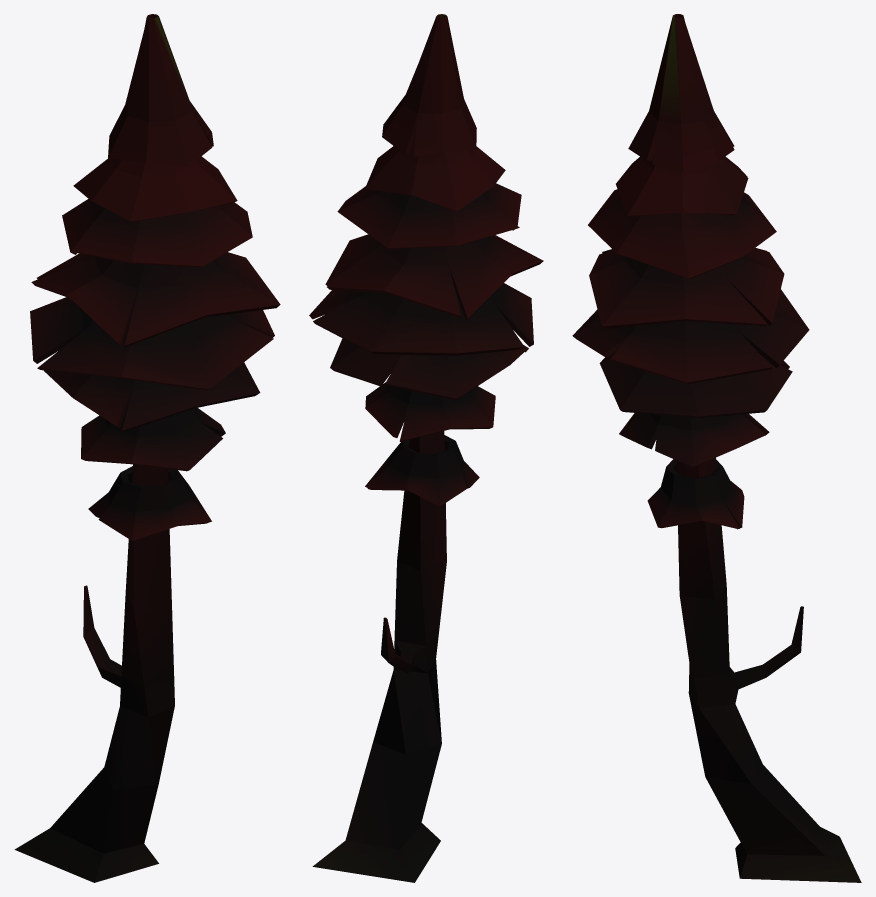
File: TallTrees11.fbx
3 views of the same model, side by side, from view 1: azimuth 30°, elevation 25°; view 2: azimuth 150°, elevation 25°; view 3: azimuth 270°, elevation 25° (orthographic). The views are drawn at different scales.
Parts seen in each view (by area): view 1: Circle; view 2: Circle; view 3: Circle.
Part boxes in pixels (left/top/right/bottom): Circle: left=14, top=14, right=280, bottom=882; Circle: left=309, top=14, right=543, bottom=882; Circle: left=572, top=14, right=861, bottom=882.
Bounding box in the file's own units: 711 × 2675 × 830.
